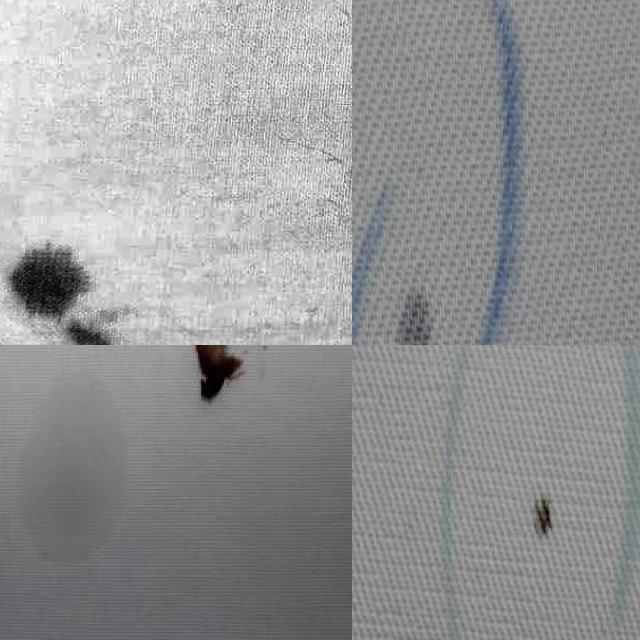Thread_other: (352, 0, 588, 345), (0, 349, 166, 607), (0, 202, 133, 345), (176, 345, 318, 452), (491, 446, 594, 588), (304, 100, 352, 264)
